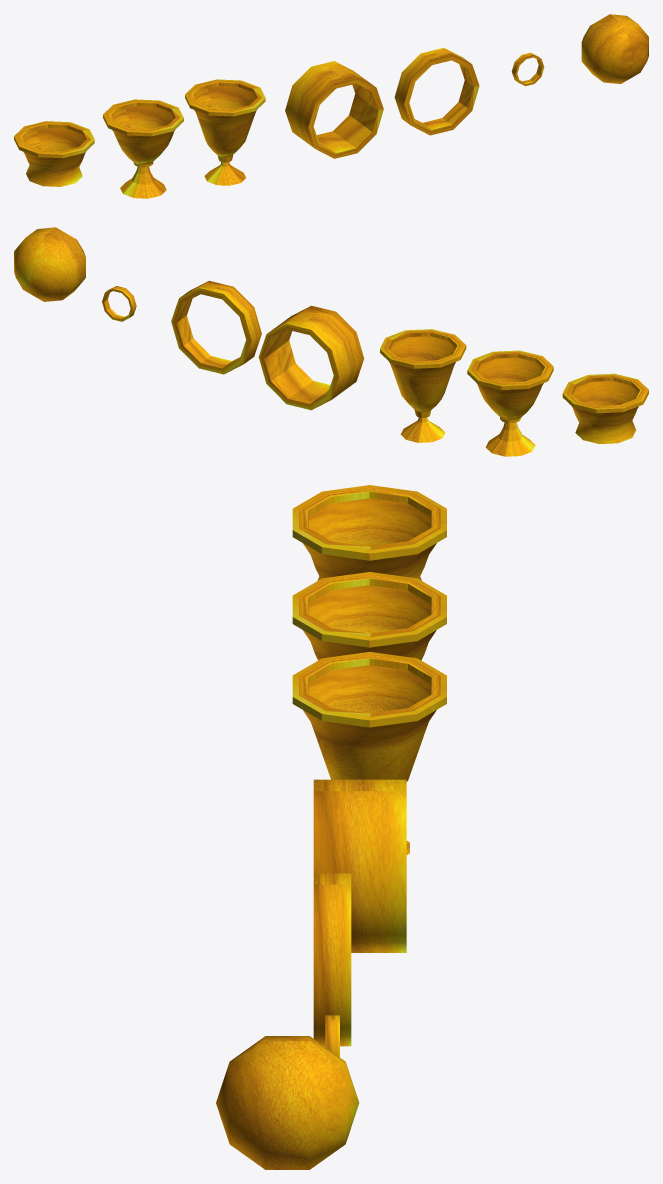
The model's file is golds.FBX.
3 renders of one model, top to bottom at view 1: azimuth 30°, elevation 25°; view 2: azimuth 150°, elevation 25°; view 3: azimuth 270°, elevation 25°, orthographic. The views are drawn at different scales.
Visible parts, largest first — view 1: Cylinder002, Object002, Object001, Cylinder001, Sphere001, Object003, Object004; view 2: Cylinder002, Object002, Object001, Cylinder001, Sphere001, Object003, Object004; view 3: Object002, Sphere001, Cylinder002, Cylinder001, Object001, Object003.
Boxes of the visible parts, left/top/right/bottom form: Cylinder002: left=285, top=61, right=383, bottom=158; Object002: left=185, top=79, right=265, bottom=185; Object001: left=103, top=99, right=183, bottom=198; Cylinder001: left=14, top=121, right=94, bottom=186; Sphere001: left=581, top=14, right=648, bottom=83; Object003: left=394, top=48, right=479, bottom=135; Object004: left=511, top=52, right=544, bottom=86; Cylinder002: left=258, top=305, right=364, bottom=410; Object002: left=380, top=329, right=466, bottom=442; Object001: left=467, top=350, right=553, bottom=456; Cylinder001: left=562, top=373, right=648, bottom=443; Sphere001: left=14, top=227, right=85, bottom=301; Object003: left=171, top=280, right=261, bottom=374; Object004: left=102, top=286, right=136, bottom=321; Object002: left=292, top=652, right=446, bottom=854; Sphere001: left=216, top=1036, right=359, bottom=1169; Cylinder002: left=313, top=779, right=406, bottom=952; Cylinder001: left=292, top=485, right=446, bottom=580; Object001: left=292, top=572, right=446, bottom=660; Object003: left=313, top=873, right=351, bottom=1046.
Size of the model in its own units: 972 by 129 by 161.
Materials: 1 (1 with a texture image).
